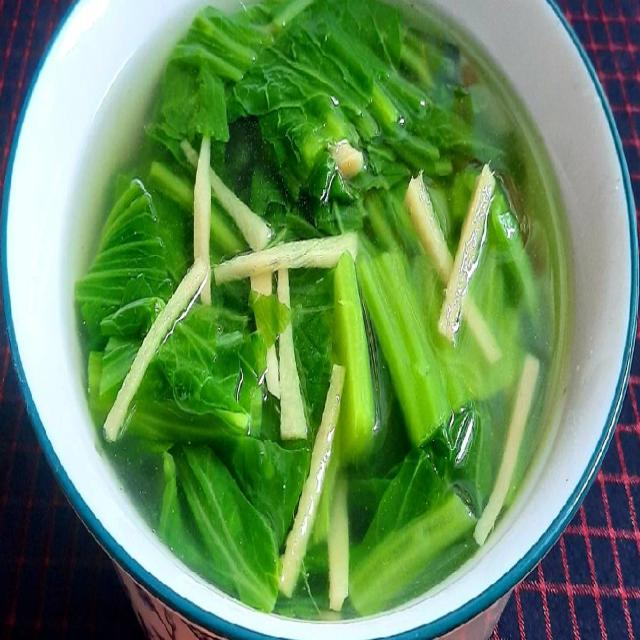canh cai: (63, 0, 574, 622)
